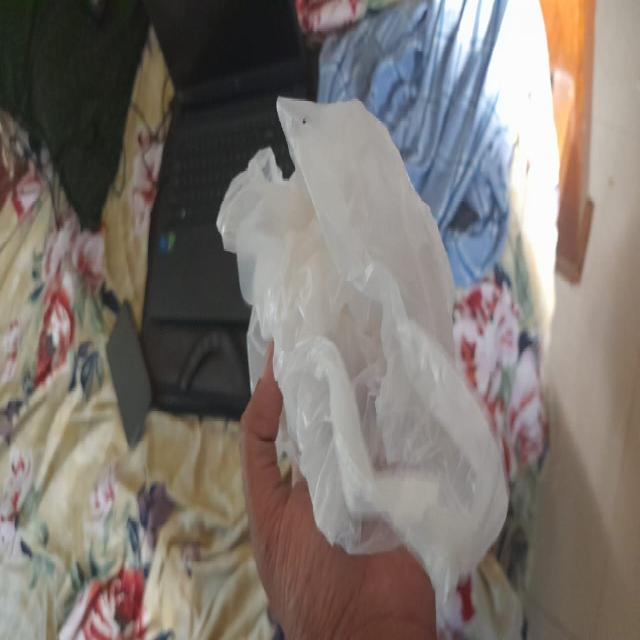Plastic - Recyclable: (216, 90, 512, 621)
